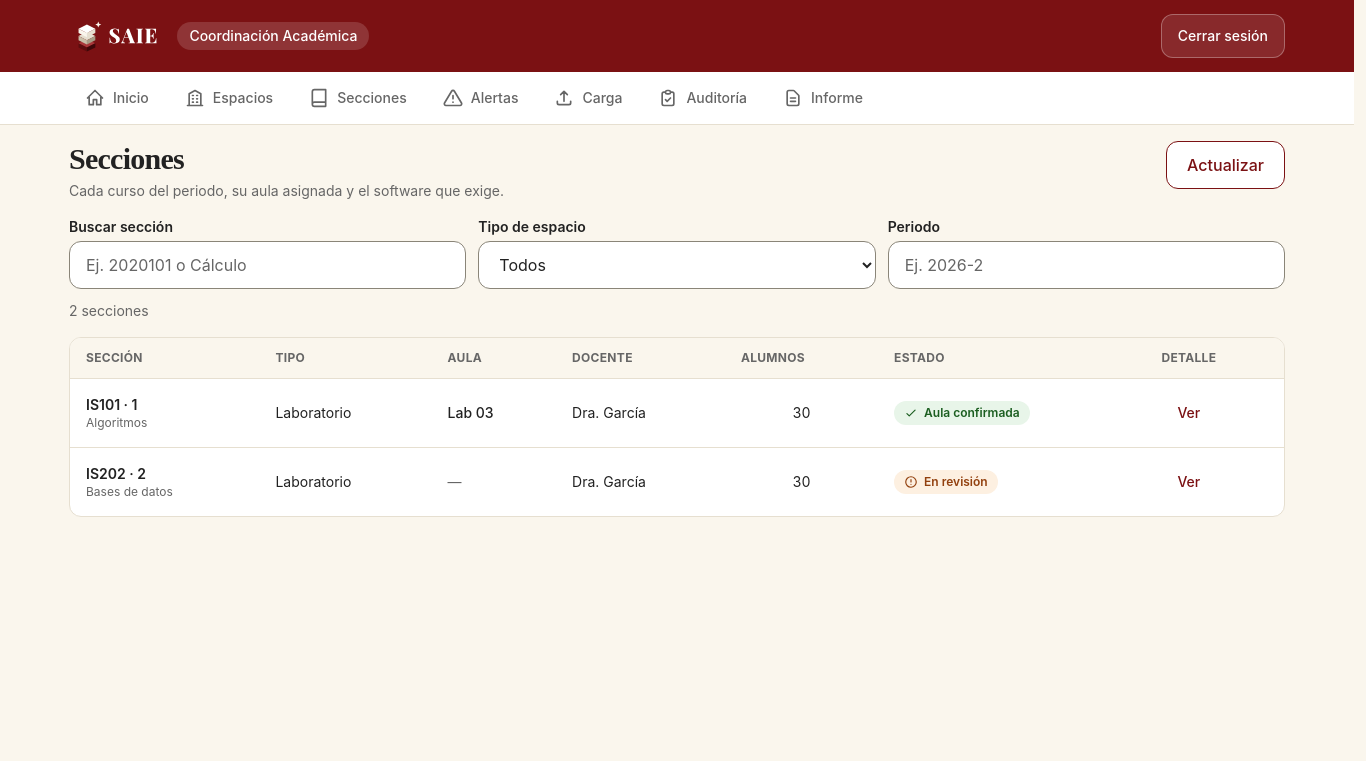
Scenario: Gestión individual de secciones (Issue 4.31) › cerrar el detalle deja de editar y hides la sección
Click the button with aria-label "Ver detalle de IS101 1" at (1189, 413), box [1161, 391, 1216, 435]
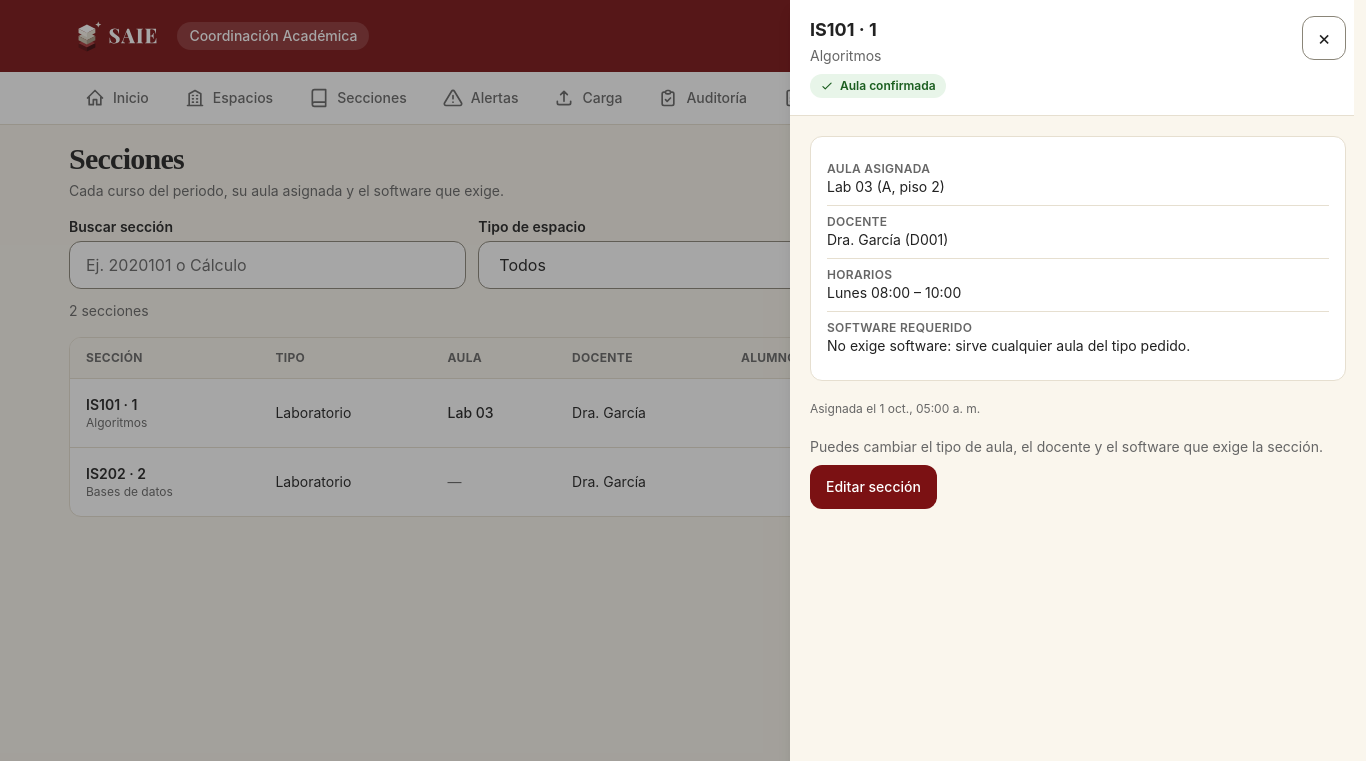
Click the button "Editar sección" at (873, 487), box [810, 465, 937, 509]
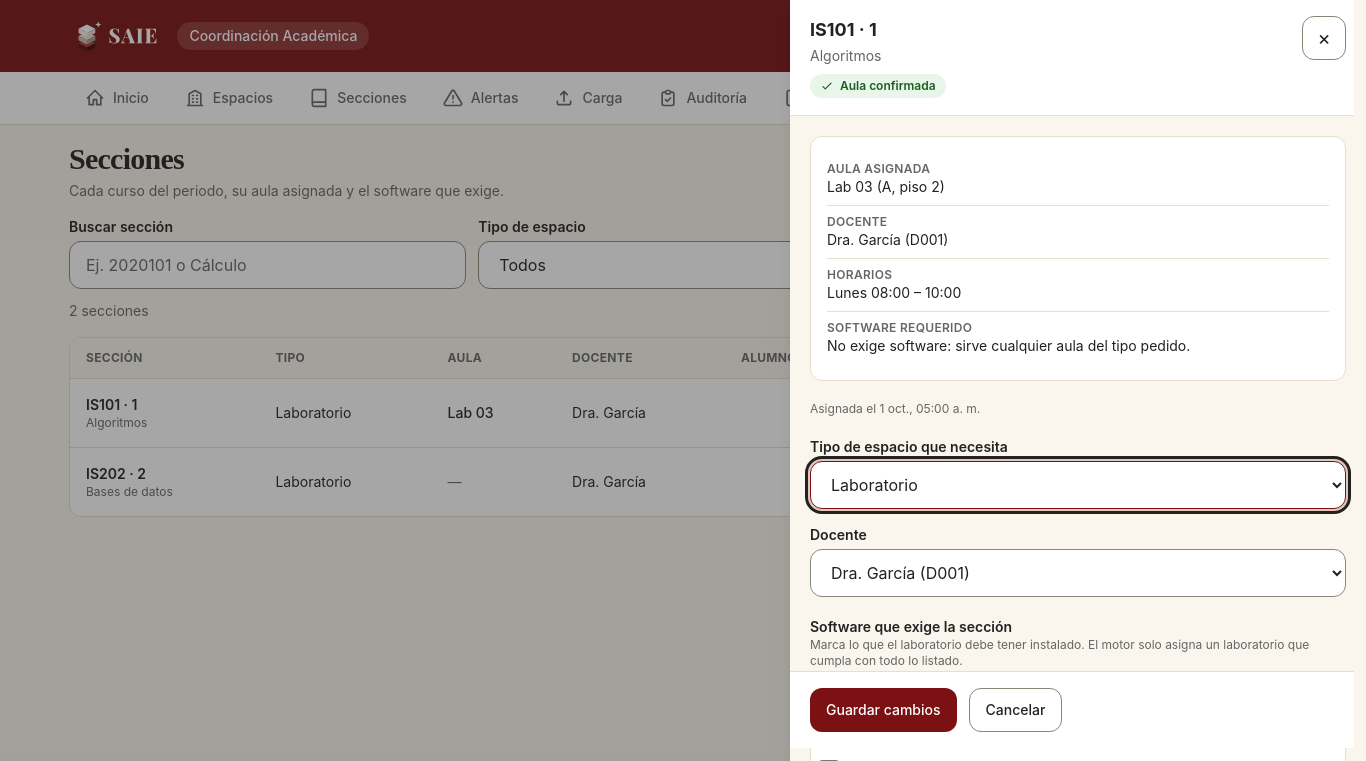
Click the button "Cancelar" at (1015, 710), box [968, 688, 1062, 732]
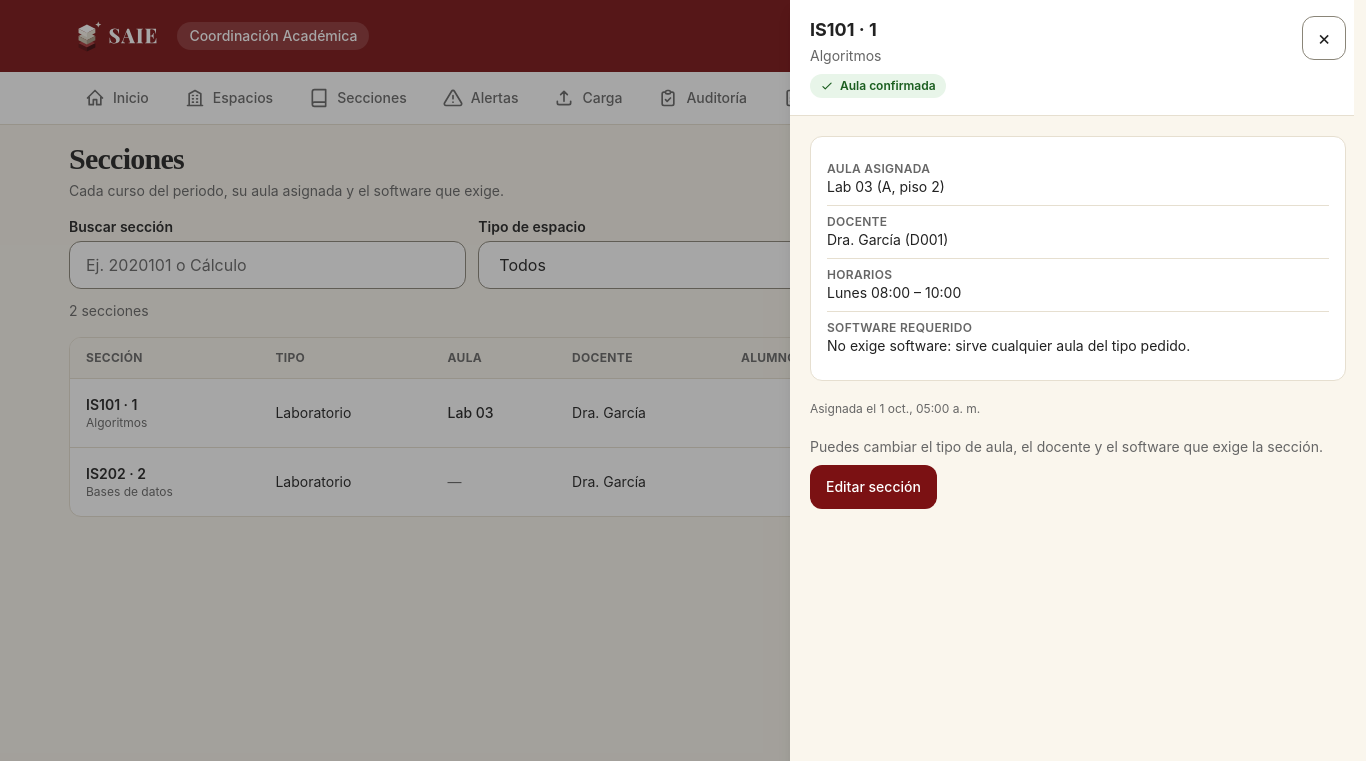
expect the button "Editar sección" is shown: met, box [810, 465, 937, 509]
